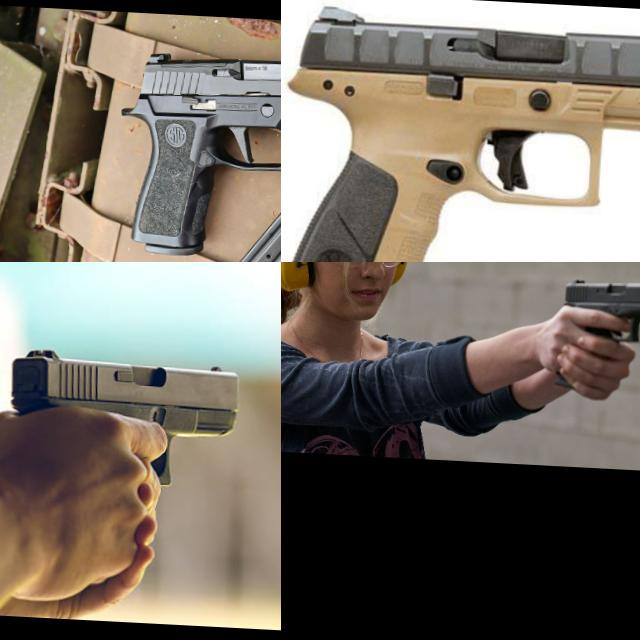handgun: (281, 0, 640, 262), (0, 344, 244, 506), (112, 35, 281, 262), (560, 270, 640, 349)
